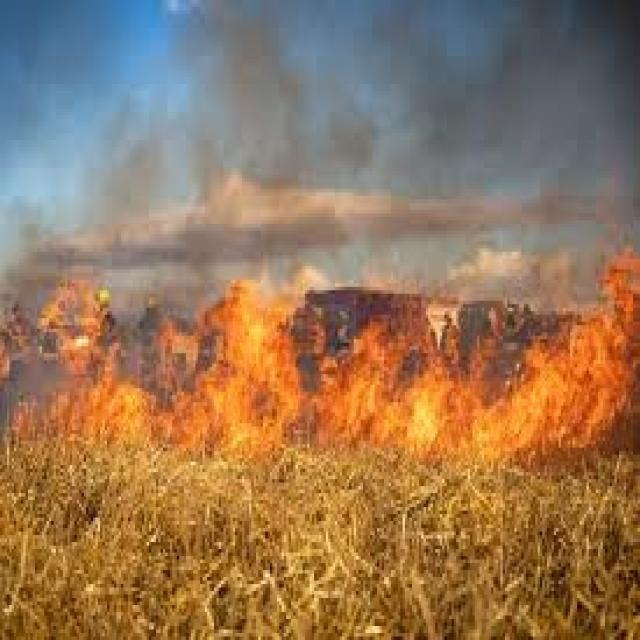Fire: (490, 240, 640, 460), (312, 302, 469, 456), (26, 284, 173, 443), (182, 290, 306, 456)
Smoke: (141, 0, 638, 301)
